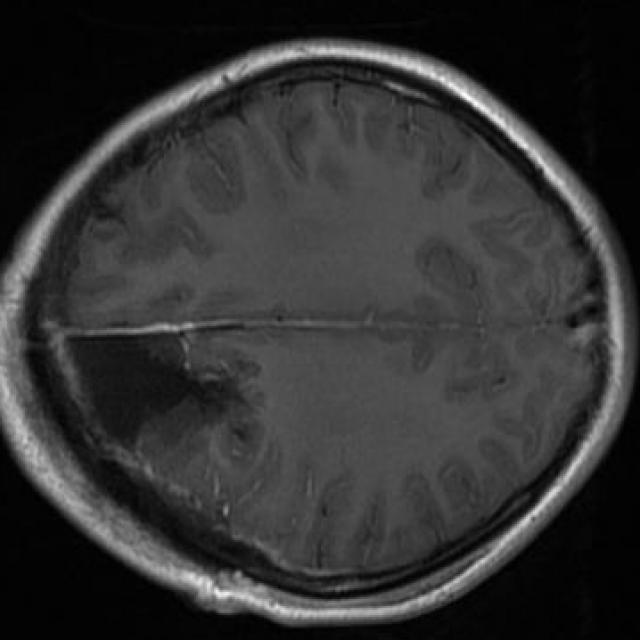glioma: (68, 332, 264, 455)
